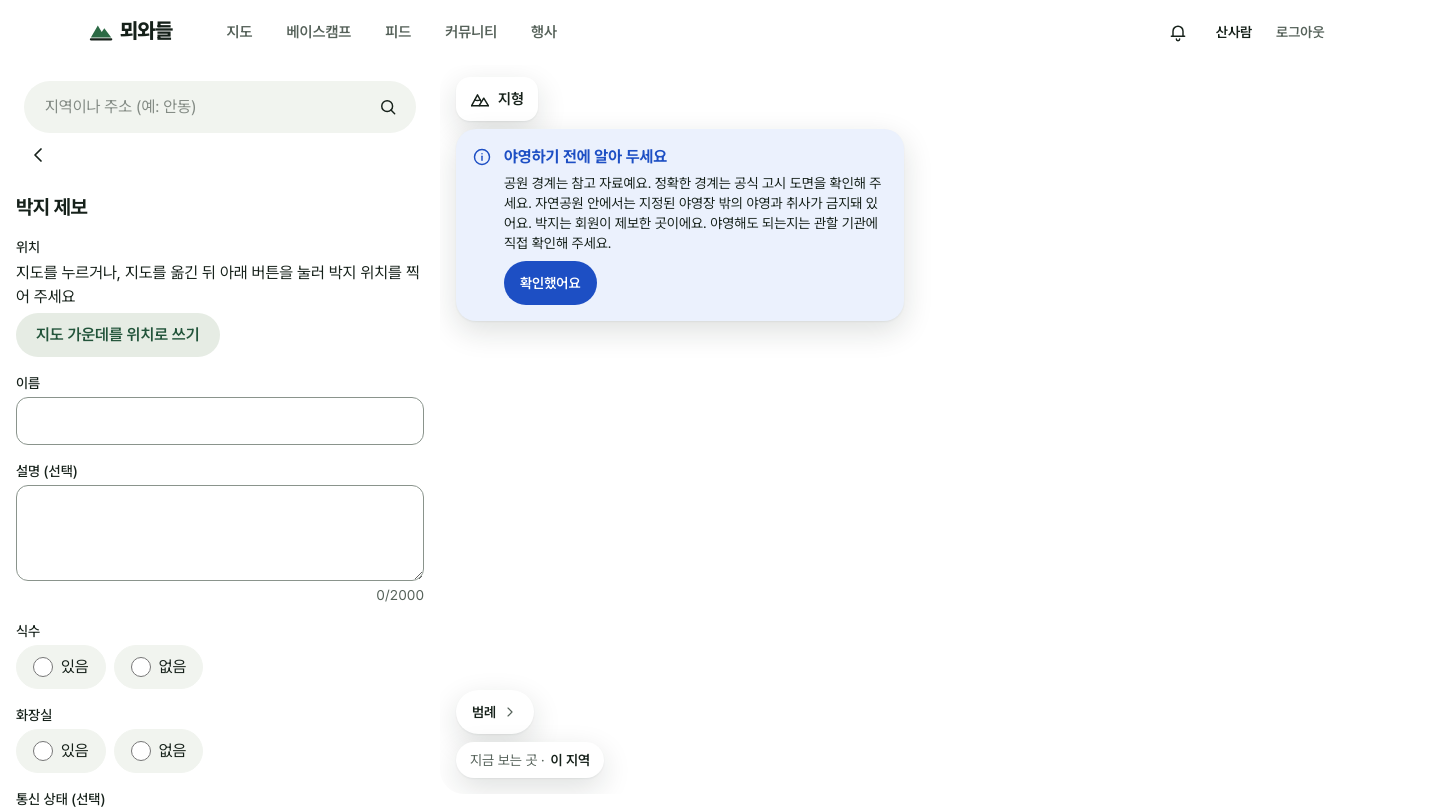
Scenario: 박지 제보 위치를 키보드로 찍기 › 지도를 누르지 않아도 버튼으로 지도 가운데를 위치로 찍는다
Click the button "지도 가운데를 위치로 쓰기".
click(118, 335)  # box x1=16 y1=313 x2=220 y2=357
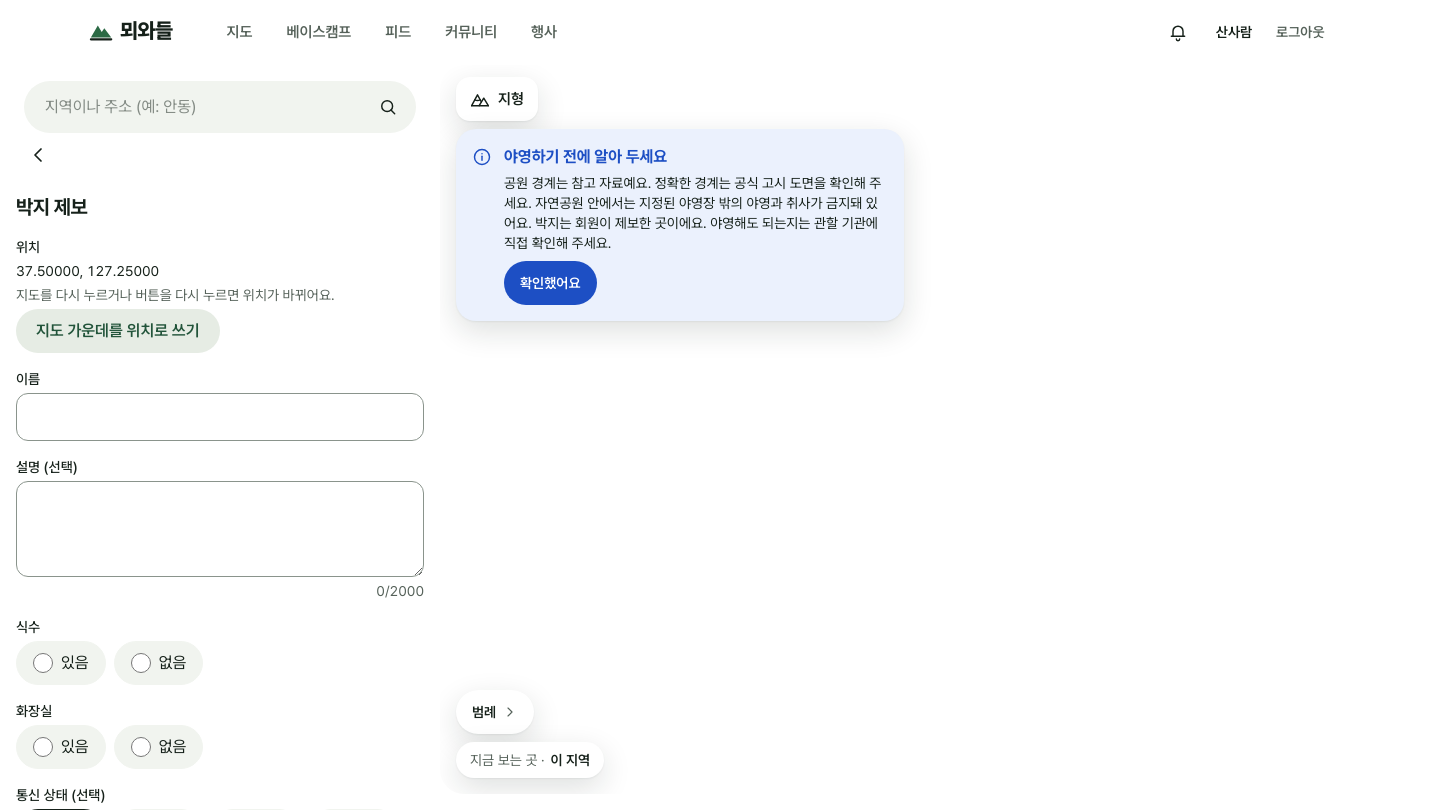
Expected: the text "37.50000, 127.25000" is shown, x1=16 y1=263 x2=159 y2=279
Expected: the text "지도를 다시 누르거나 버튼을 다시 누르면 위치가 바뀌어요." is shown, x1=16 y1=287 x2=334 y2=303
